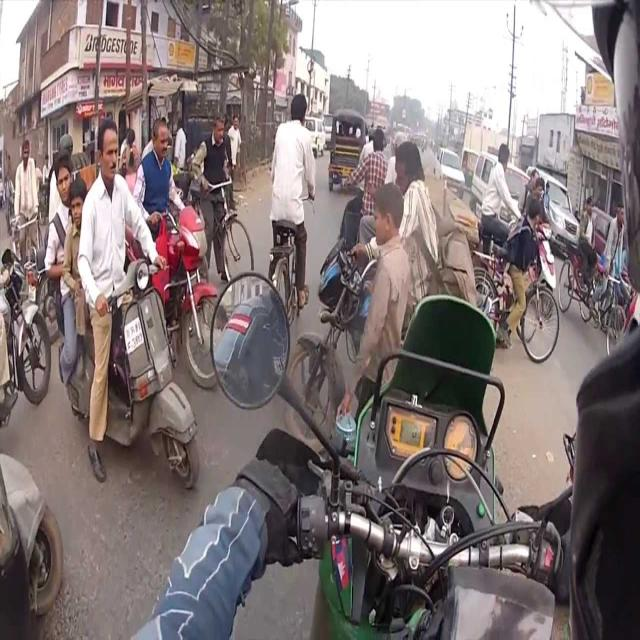autorickshaw: (329, 109, 366, 190)
bicycle: (475, 198, 559, 362), (269, 93, 315, 321)
motorcycle: (60, 118, 199, 489), (134, 120, 218, 389)
